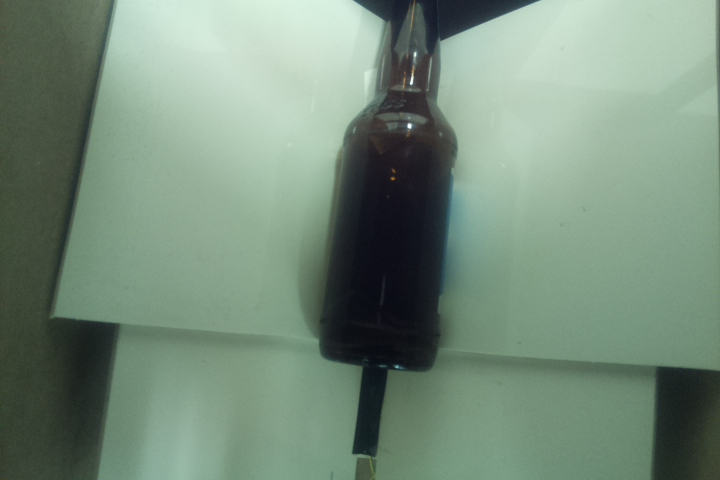makju: (318, 1, 462, 373)
